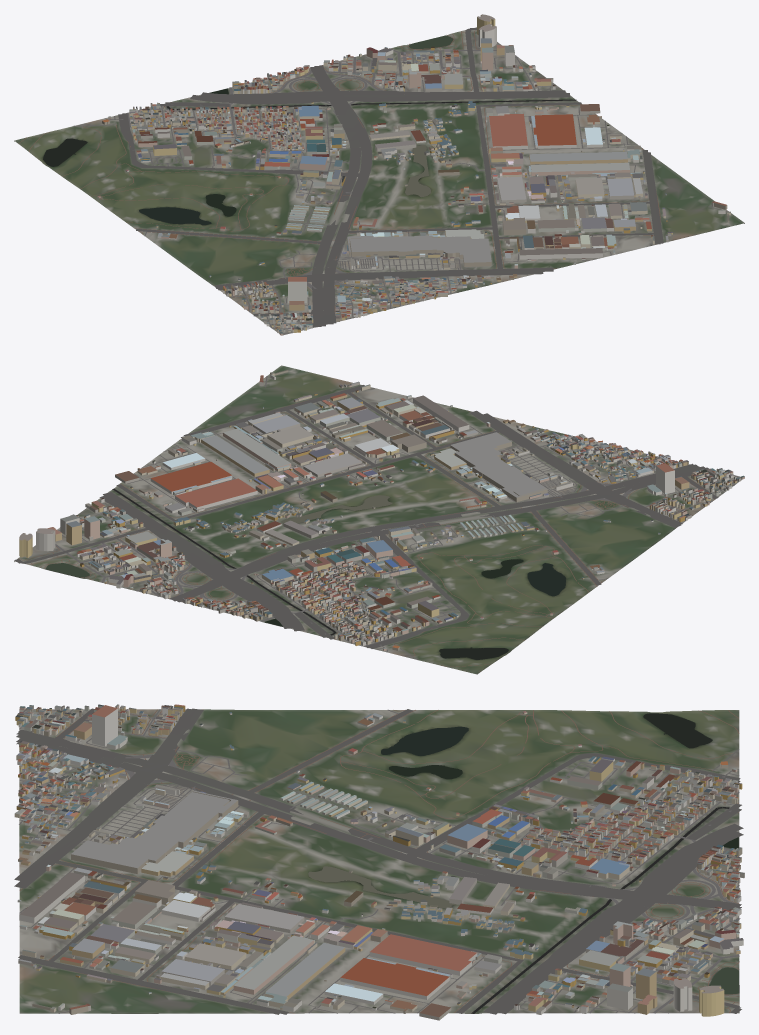
The picture shows the model from 3 angles, top to bottom: view 1: azimuth 30°, elevation 25°; view 2: azimuth 150°, elevation 25°; view 3: azimuth 270°, elevation 25°; orthographic projection. The views are drawn at different scales.
Parts seen in each view (by area): view 1: ground, buildings, roads, water; view 2: ground, buildings, roads, water; view 3: ground, buildings, roads, water.
Part boxes in pixels (x1=…): ground: x1=14, y1=27, x2=744, y2=335; buildings: x1=97, y1=14, x2=730, y2=335; roads: x1=18, y1=27, x2=727, y2=333; water: x1=43, y1=35, x2=576, y2=225; ground: x1=14, y1=365, x2=740, y2=674; buildings: x1=19, y1=370, x2=744, y2=650; roads: x1=14, y1=376, x2=742, y2=671; water: x1=45, y1=488, x2=566, y2=659; ground: x1=19, y1=709, x2=739, y2=1013; buildings: x1=14, y1=704, x2=744, y2=1020; roads: x1=14, y1=708, x2=743, y2=1014; water: x1=308, y1=713, x2=738, y2=1013.
Size of the model in its own units: 1437 by 72.55 by 1423.
